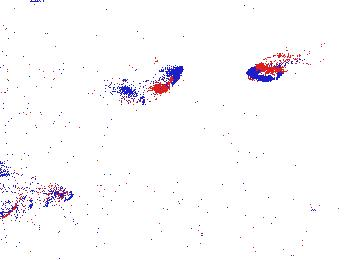red belly glassfish: (245, 53, 308, 81), (133, 64, 184, 92)
redtail glassfish: (1, 169, 74, 208), (303, 197, 346, 215)
